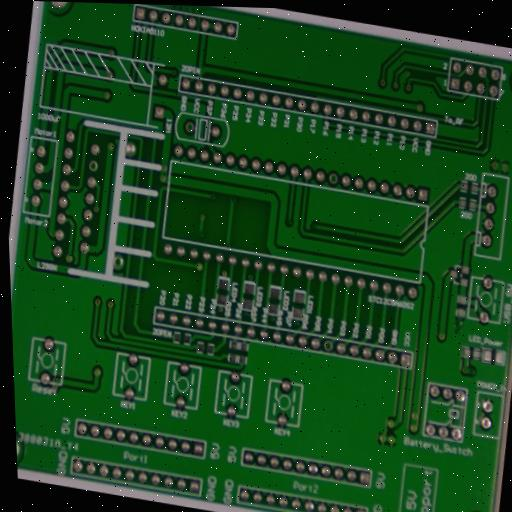missing_hole: (182, 118, 198, 137), (325, 170, 340, 189), (322, 339, 337, 355), (111, 254, 125, 271), (87, 159, 100, 175)
